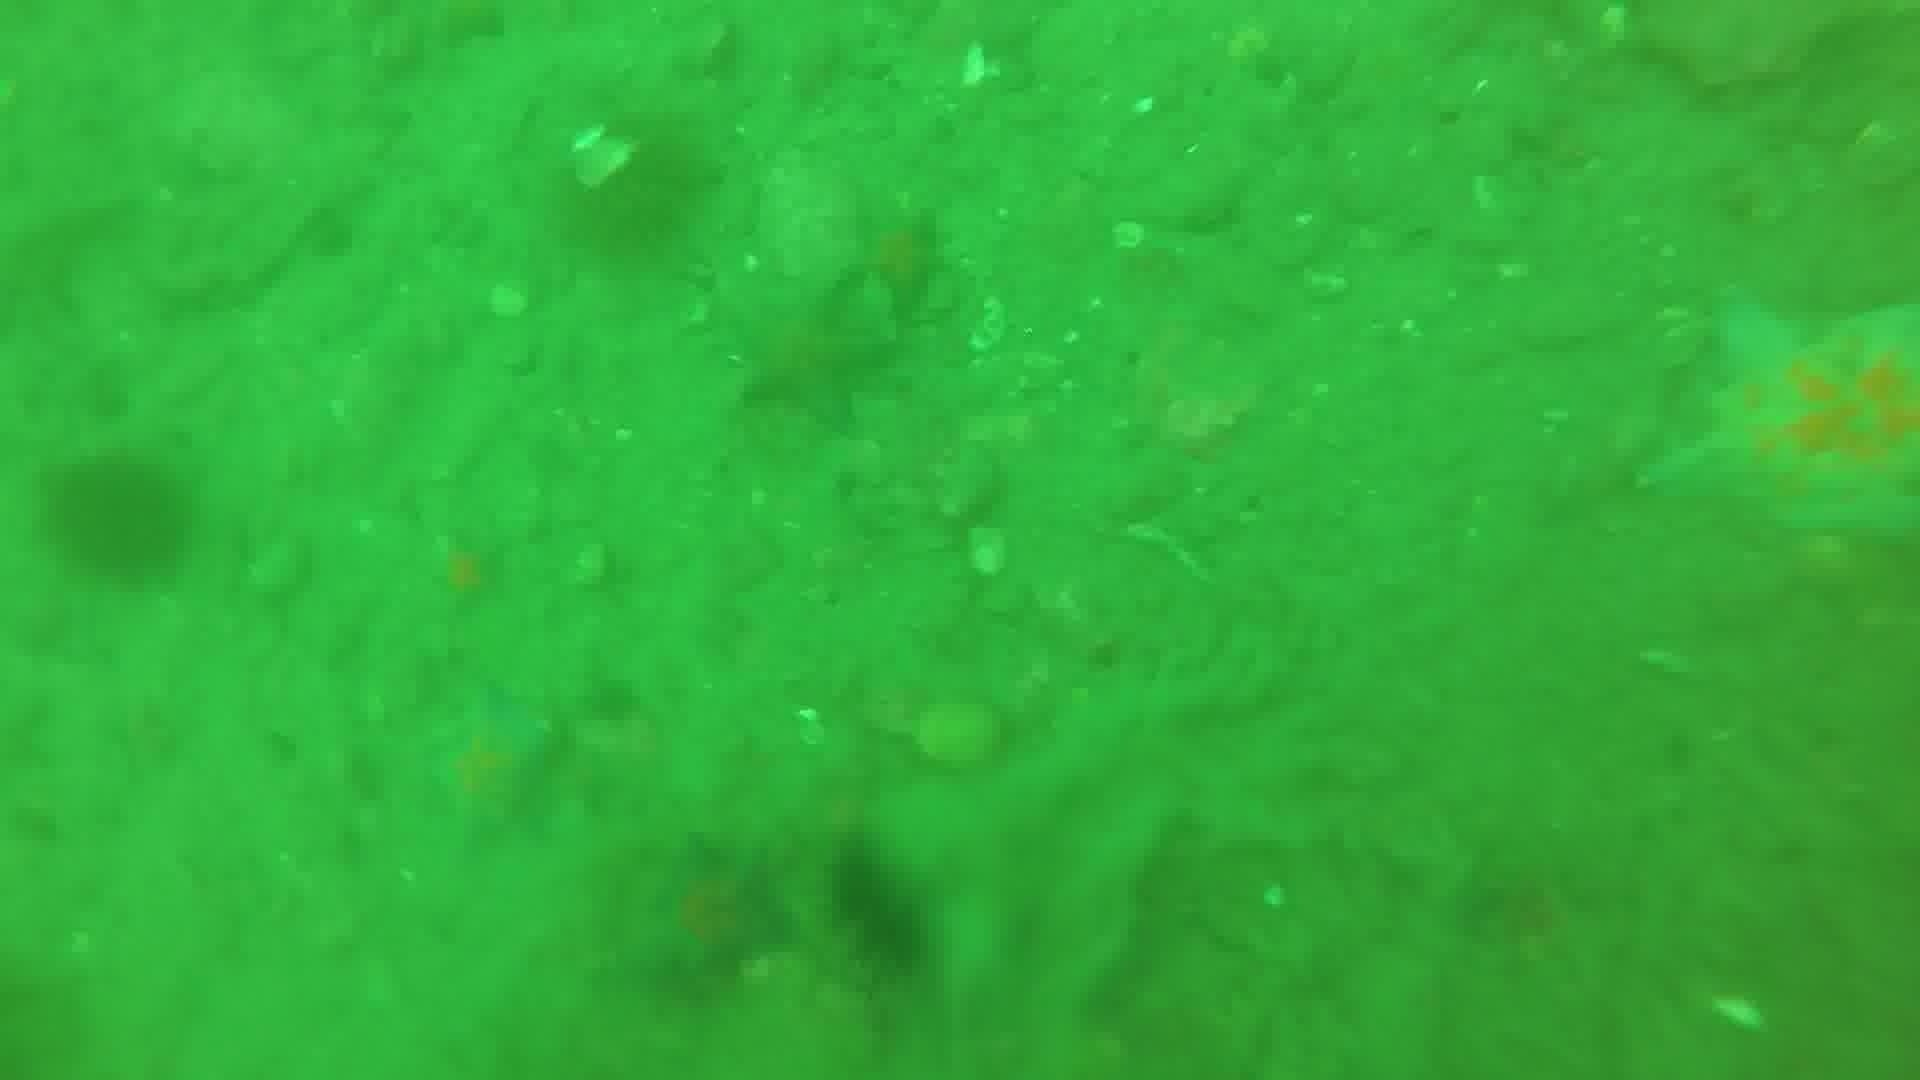echinus: (535, 99, 713, 266), (44, 451, 196, 587), (822, 843, 934, 977)
starfish: (1634, 290, 1920, 556), (725, 272, 895, 430), (630, 837, 798, 992), (421, 690, 563, 845), (843, 200, 955, 320), (419, 527, 514, 620)
